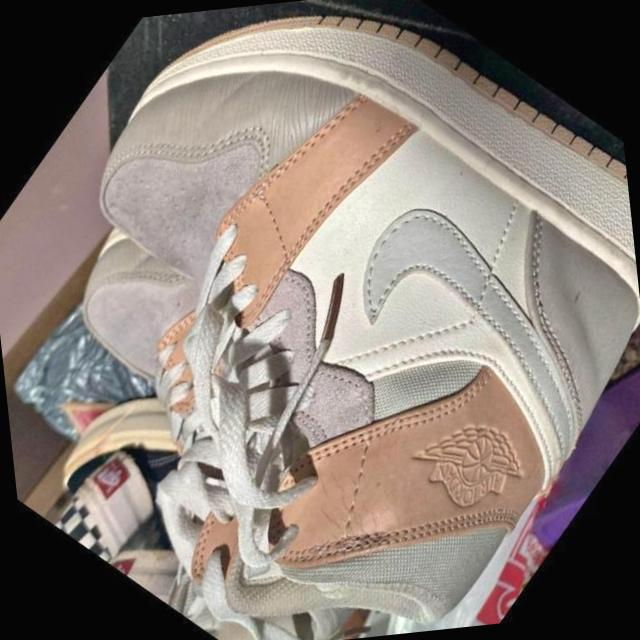nike_fake_jordan: (0, 0, 640, 640), (0, 179, 491, 640)
